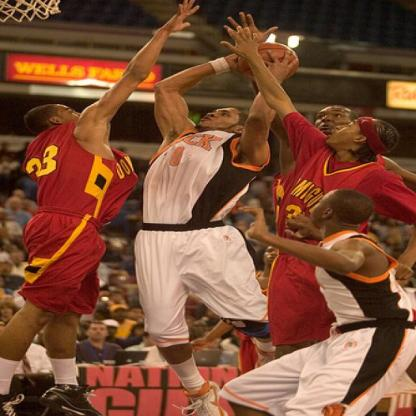basketball: (239, 42, 298, 80)
